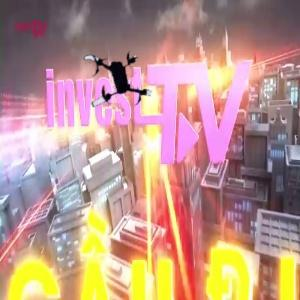drone: (75, 43, 154, 122)
